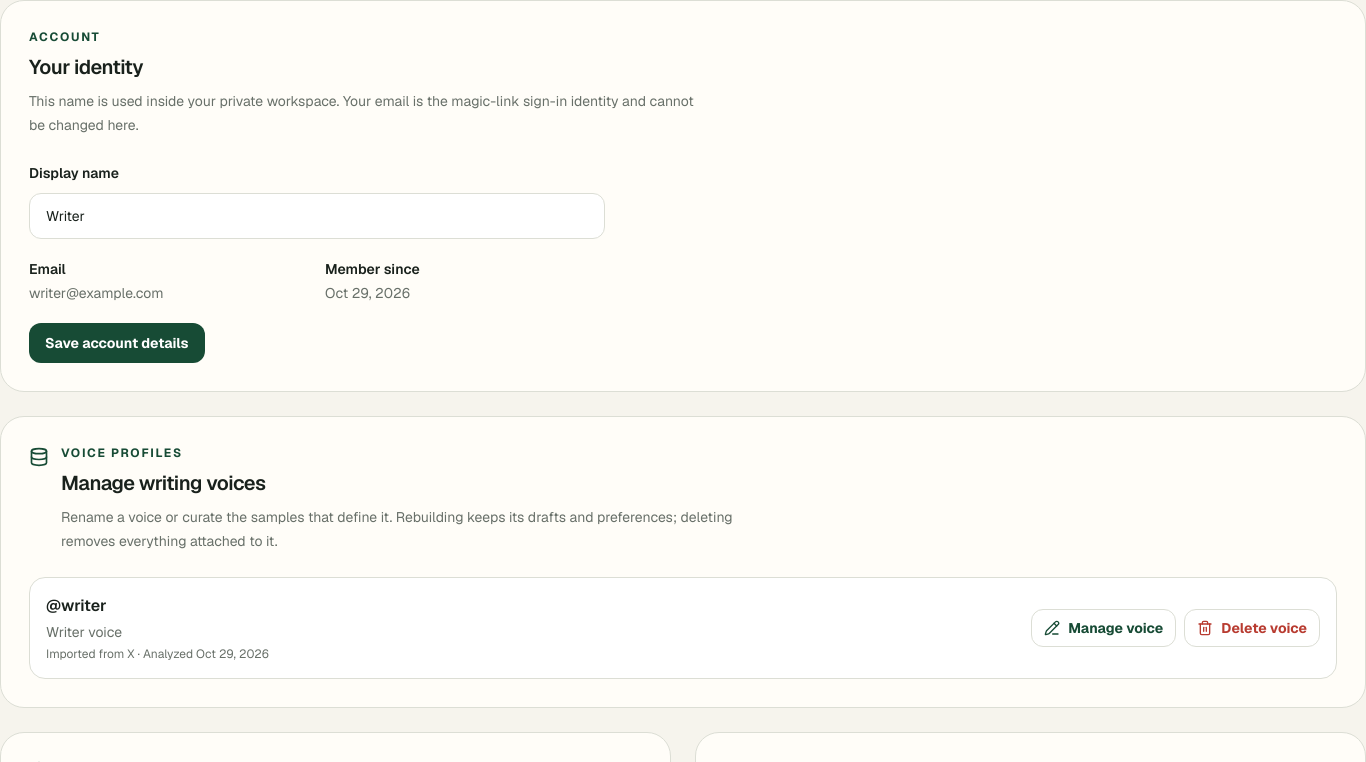
SettingsView › loads a voice and lets the user curate samples before rebuilding
The width and height of the screenshot is (1366, 762).
Click the button "Manage voice" at (1104, 628), box [1031,609,1176,647]
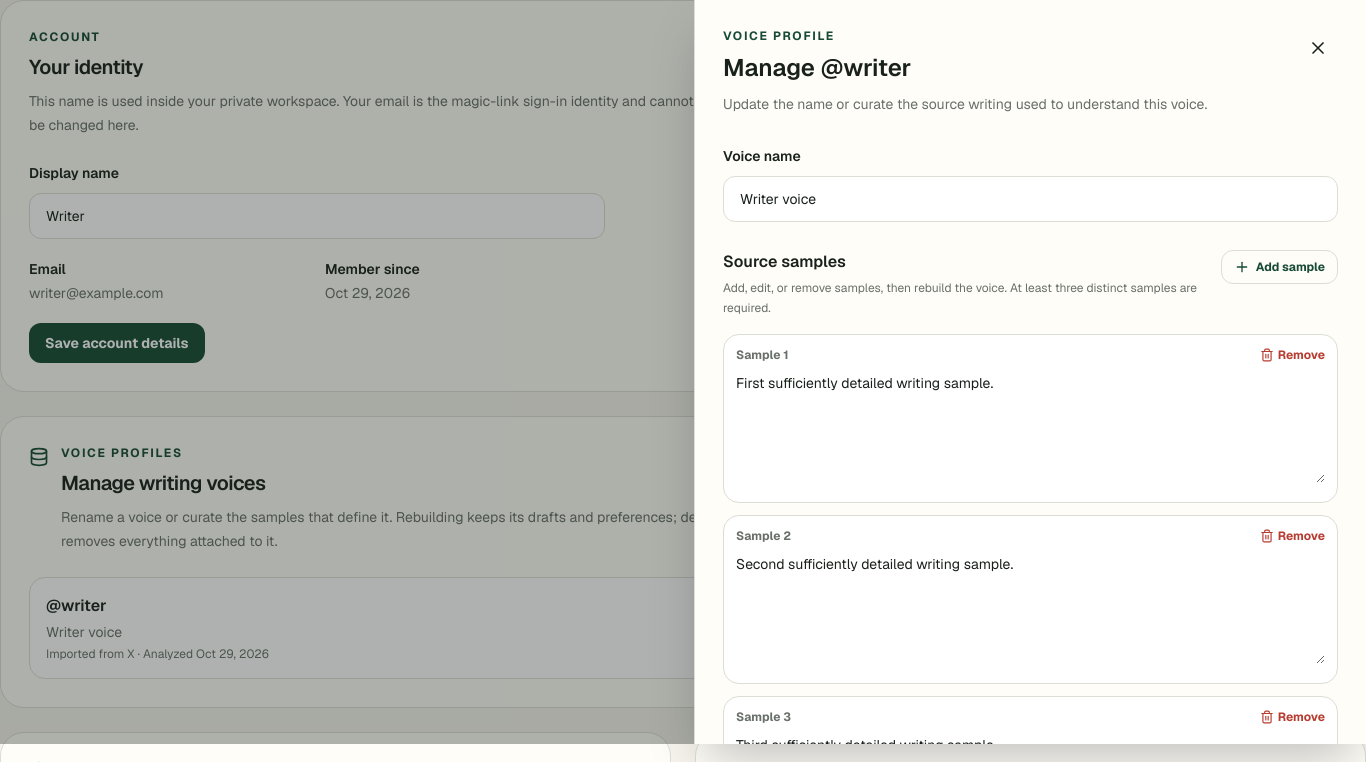
Check: the dialog "Manage @writer" is shown, box [694,0,1365,744]
Replace the text in the field labelled "Voice name" with "Sharper voice" at (1030, 199), box [723,176,1338,222]
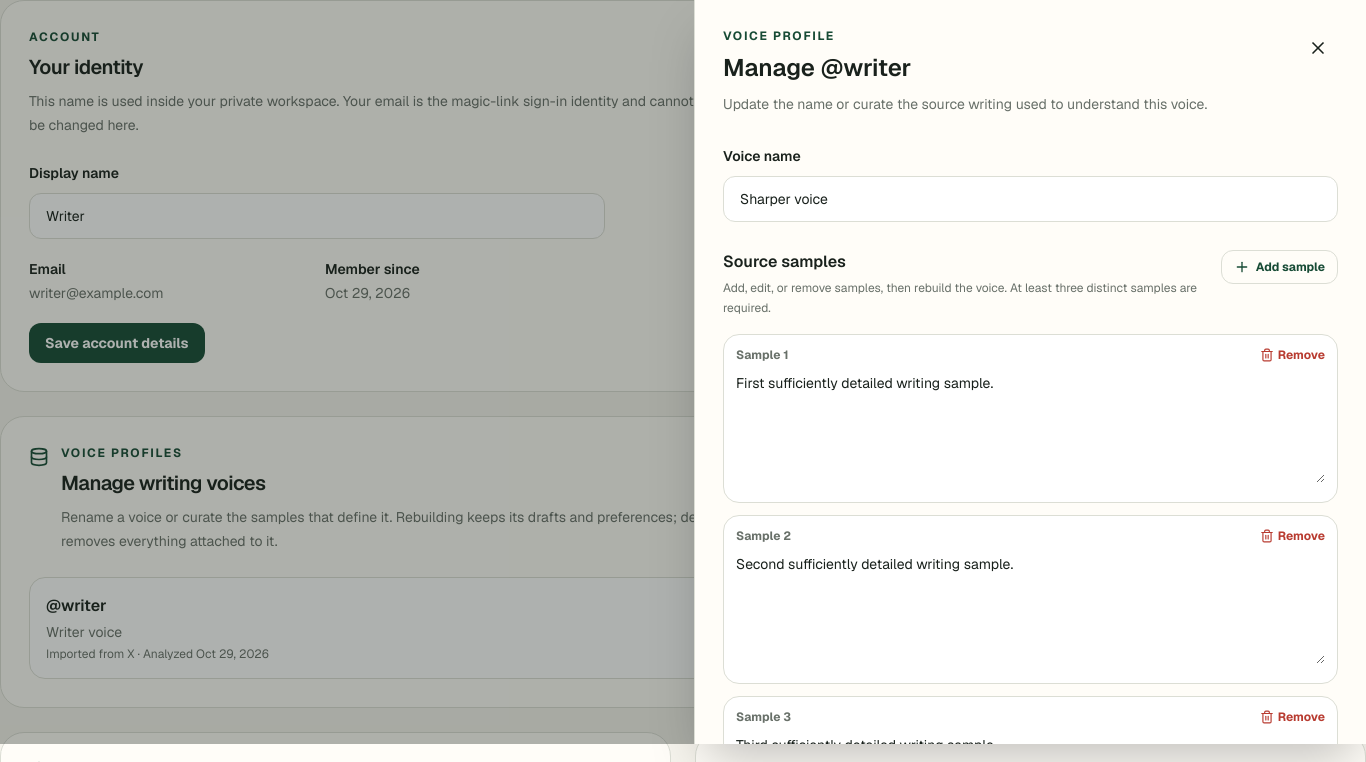
Replace the text in the 1st text box showing "First sufficiently detailed writing sample." with "A sharper replacement sample with enough detail." at (1030, 427), box [736,371,1325,483]
(page scrolled)
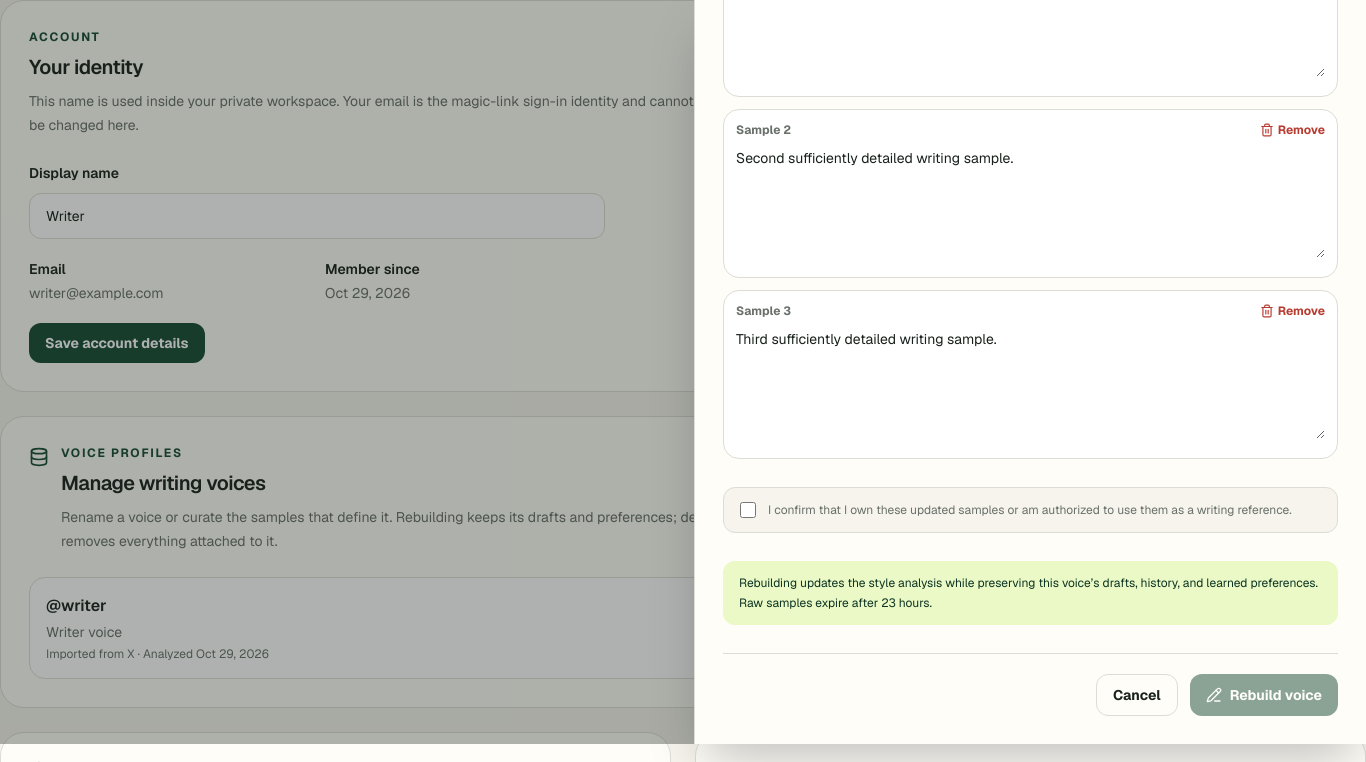
Click the checkbox at (748, 510), box [740,502,756,518]
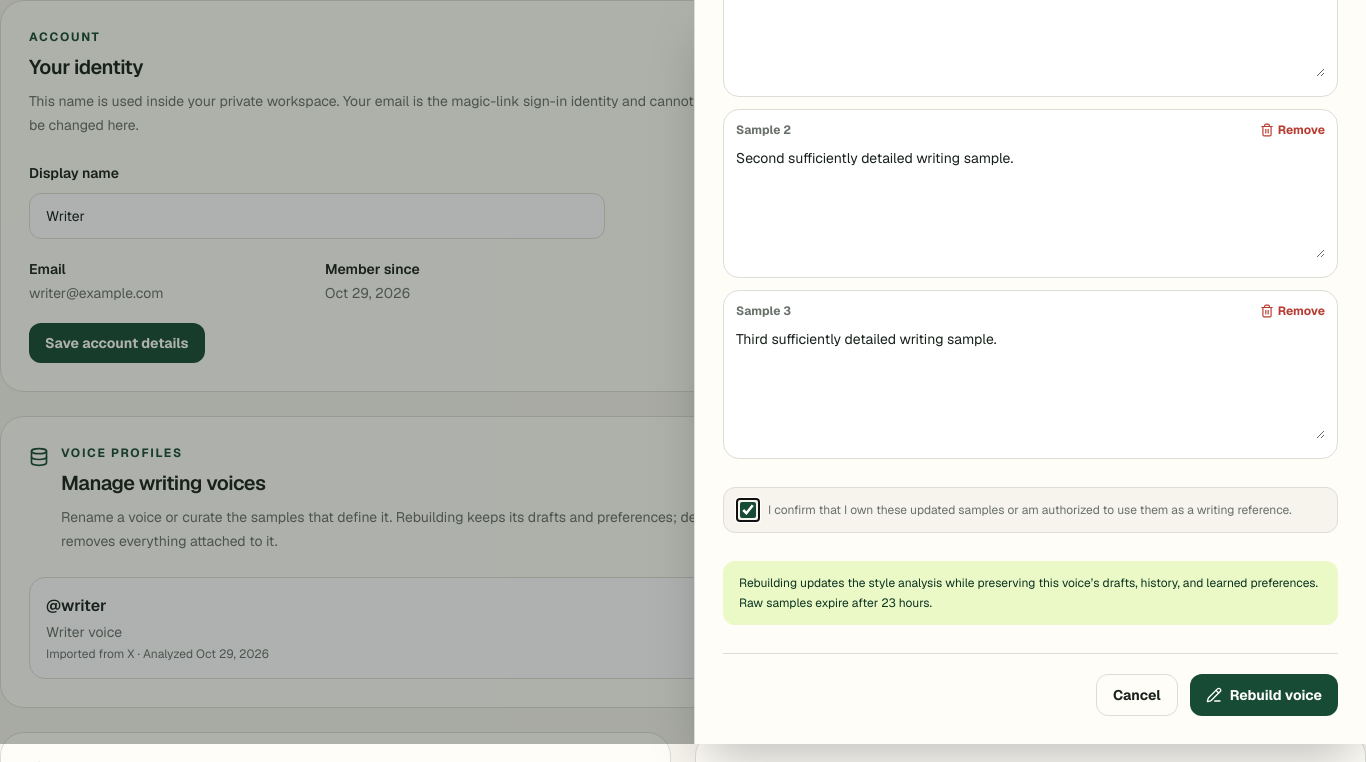
Click the button "Rebuild voice" at (1264, 695), box [1190,674,1338,716]
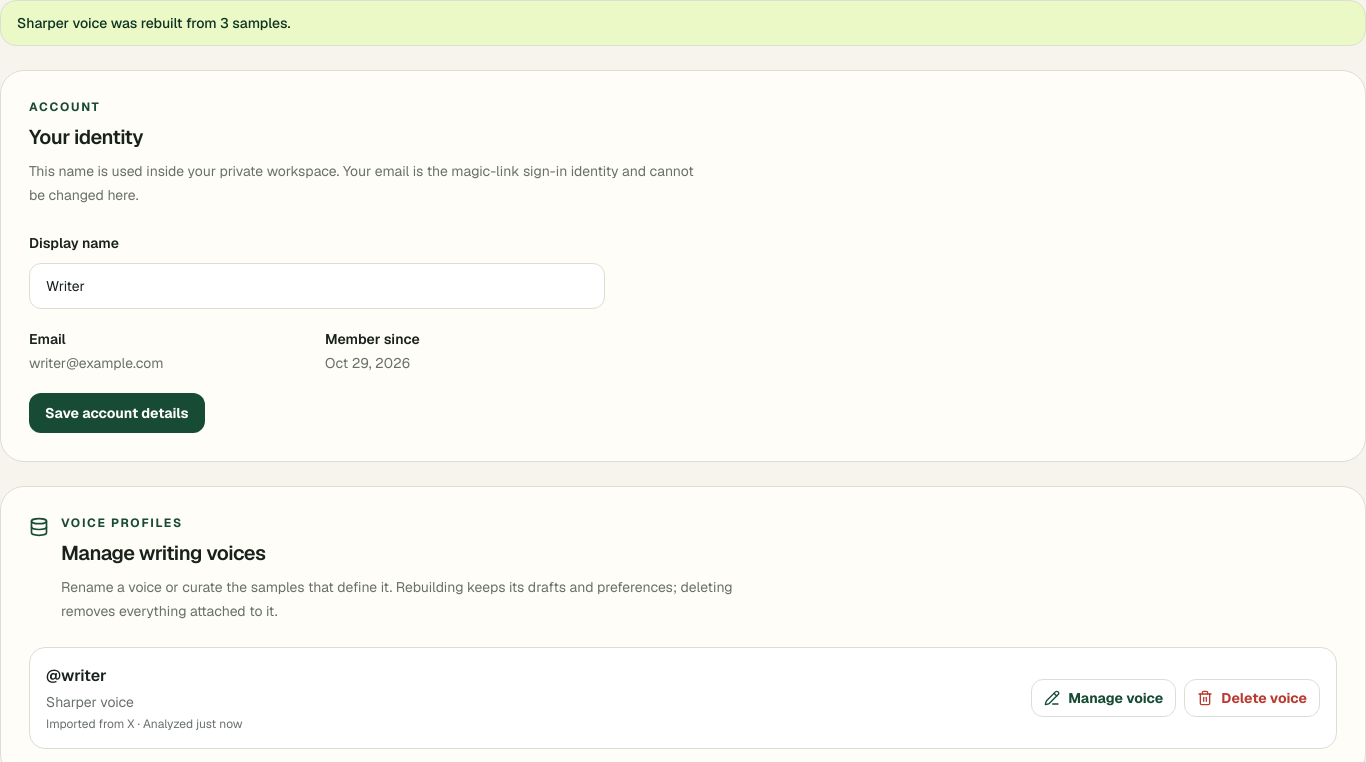
Check: the text "Sharper voice was rebuilt from 3 samples." is shown, box [0,0,1365,46]
